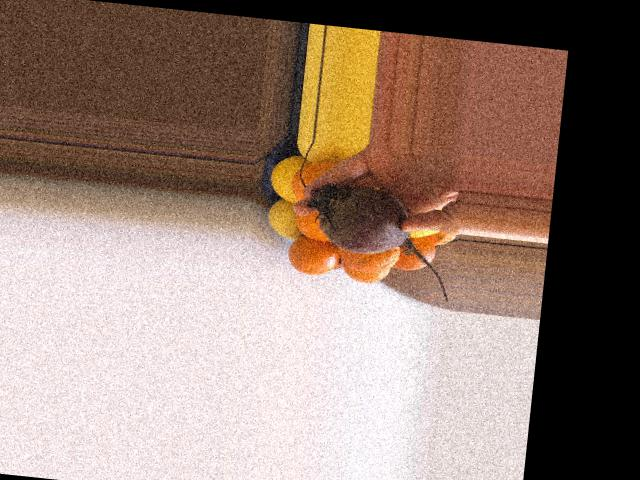beet: (300, 181, 458, 300)
